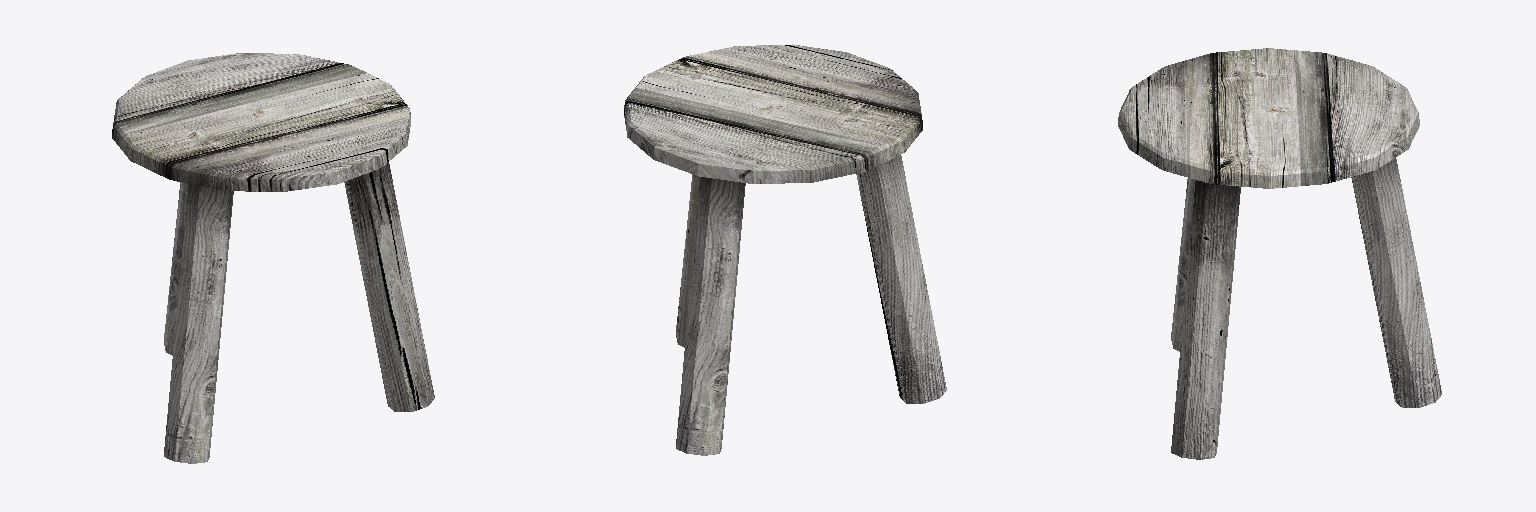
3 renders of one model, left to right at view 1: azimuth 30°, elevation 25°; view 2: azimuth 150°, elevation 25°; view 3: azimuth 270°, elevation 25°, orthographic.
Parts seen in each view (by area): view 1: stool2; view 2: stool2; view 3: stool2.
Boxes of the visible parts, x1,y1,x2,y2 form: stool2: [112, 53, 434, 463]; stool2: [624, 44, 946, 455]; stool2: [1118, 48, 1441, 459].
Size of the model in its own units: 0.7948 by 0.8376 by 0.8451.
1 materials, 1 textured.